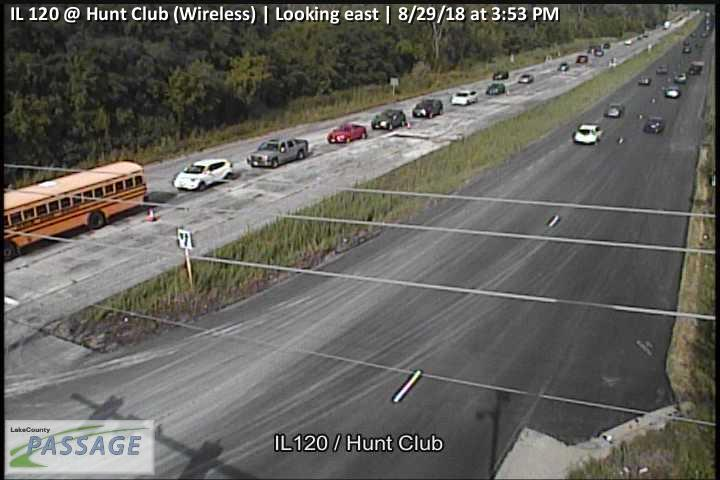Bus: (1, 162, 149, 258)
SUV: (173, 157, 234, 191), (574, 124, 603, 145)
Sedan: (247, 137, 309, 169), (327, 122, 367, 145), (370, 108, 407, 131), (412, 99, 443, 120), (450, 89, 479, 105), (607, 102, 626, 117), (485, 82, 505, 95), (492, 69, 509, 79), (519, 73, 535, 83)
